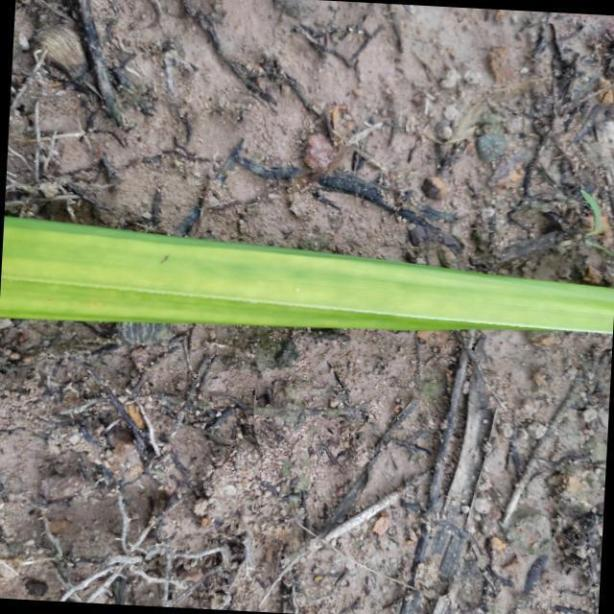nitrogen: (6, 211, 614, 339)
